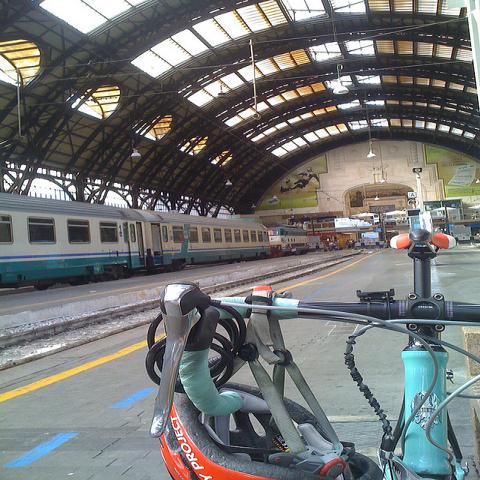motorcycle: (328, 246, 340, 251)
